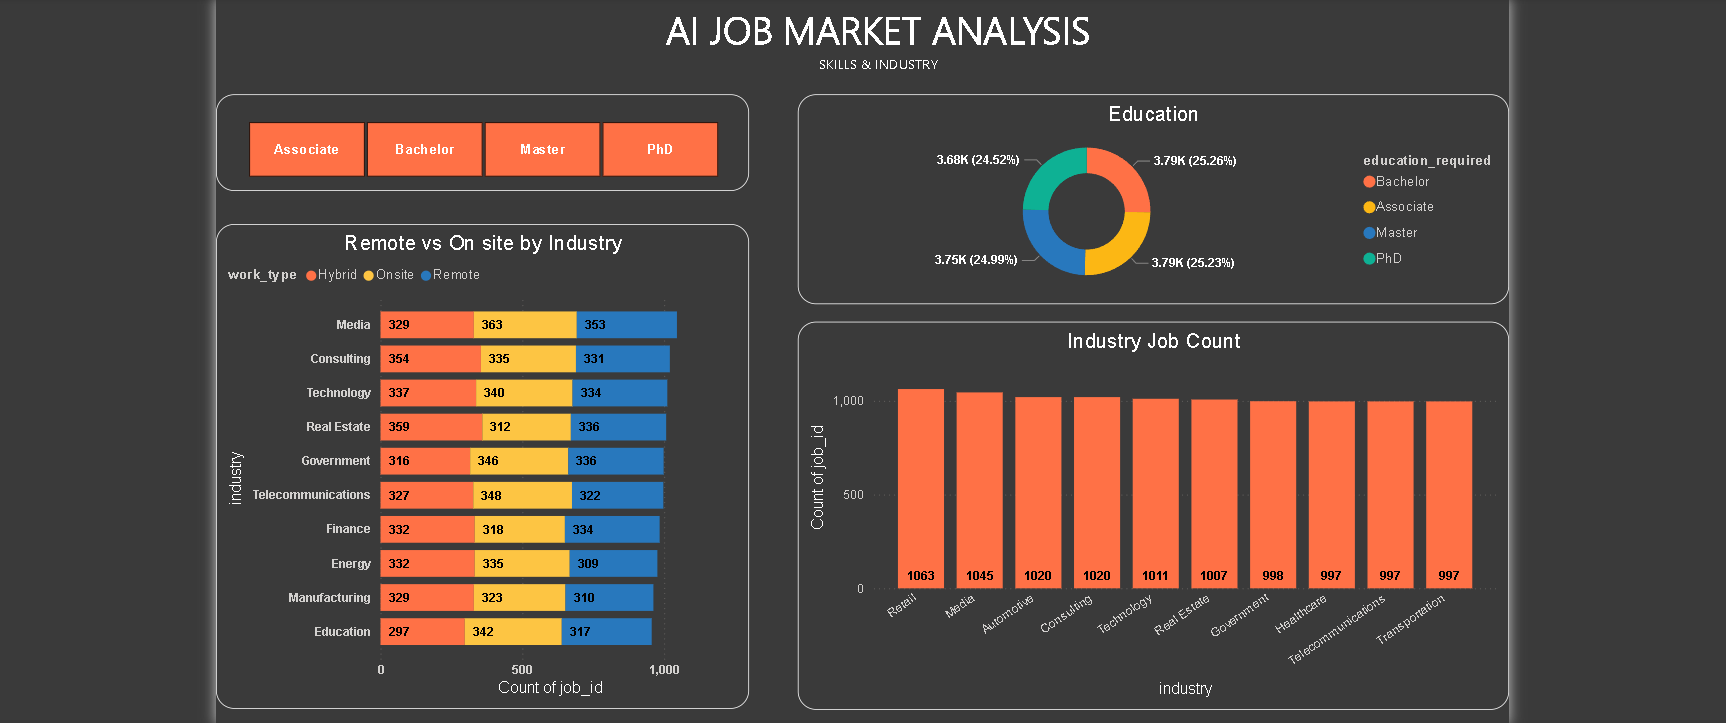

What the dashboard file says about the page in this screenshot:
{"tool":"powerbi","page":{"name":"Skills & Industry","canvas":[1280,720],"ordinal":2},"visuals":[{"type":"textbox","box":[0,0,1312,80],"z":0},{"type":"barChart","title":"Remote vs On site by Industry","fields":{"Category":["ai_jobs_cleaned.industry"],"Y":["CountNonNull(ai_jobs_cleaned.job_id)"],"Series":["ai_jobs_cleaned.work_type"]},"box":[0,224,528,480],"z":1},{"type":"donutChart","title":"Education","fields":{"Category":["ai_jobs_cleaned.education_required"],"Y":["CountNonNull(ai_jobs_cleaned.job_id)"]},"box":[576,96,704,208],"z":2},{"type":"clusteredColumnChart","title":"Industry Job Count","fields":{"Category":["ai_jobs_cleaned.industry"],"Y":["CountNonNull(ai_jobs_cleaned.job_id)"]},"box":[576,320,704,384],"z":3},{"type":"slicer","fields":{"Values":["ai_jobs_cleaned.education_required"]},"box":[0,96,528,96],"z":4}]}

Visuals, with their boxes on the page's 1280x720 design canvas (x1, y1, x2, y2). These are canvas units, not pixel positions in the 1726x723 screenshot, which may show the page scaled, cropped or inside an application window:
textbox: bbox(0, 0, 1312, 80)
"Remote vs On site by Industry" barChart: bbox(0, 224, 528, 704)
"Education" donutChart: bbox(576, 96, 1280, 304)
"Industry Job Count" clusteredColumnChart: bbox(576, 320, 1280, 704)
slicer - ai_jobs_cleaned.education_required: bbox(0, 96, 528, 192)
